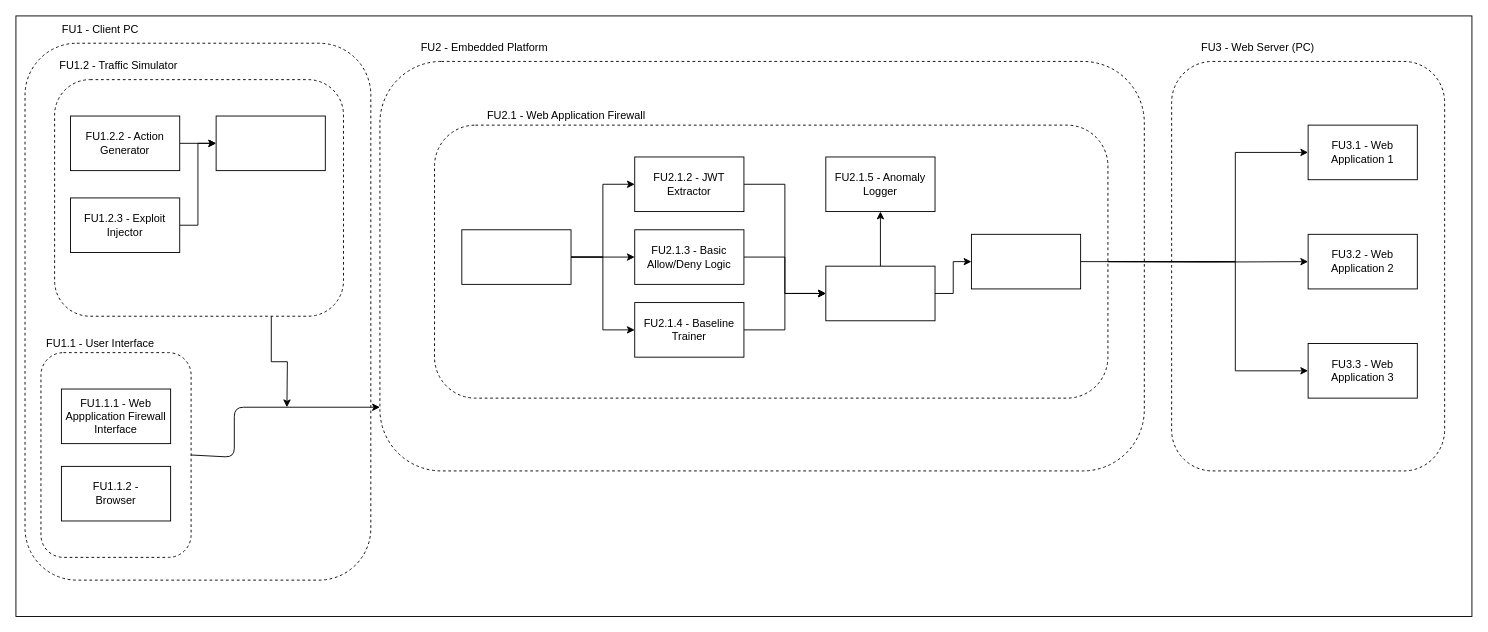
The diagram is 1488 pixels wide and 632 high, and some of its shapes have lost their labels. The centre of each missing label's shape, as x and y in pixels:
"FU1.2.1 - User Simulator" belongs at [270,143].
"FU2.1.1 - Traffic Interceptor" belongs at [516,256].
"FU2.1.6 - Traffic Analyser" belongs at [880,293].
"FU2.1.7 - Traffic Proxy" belongs at [1026,261].
